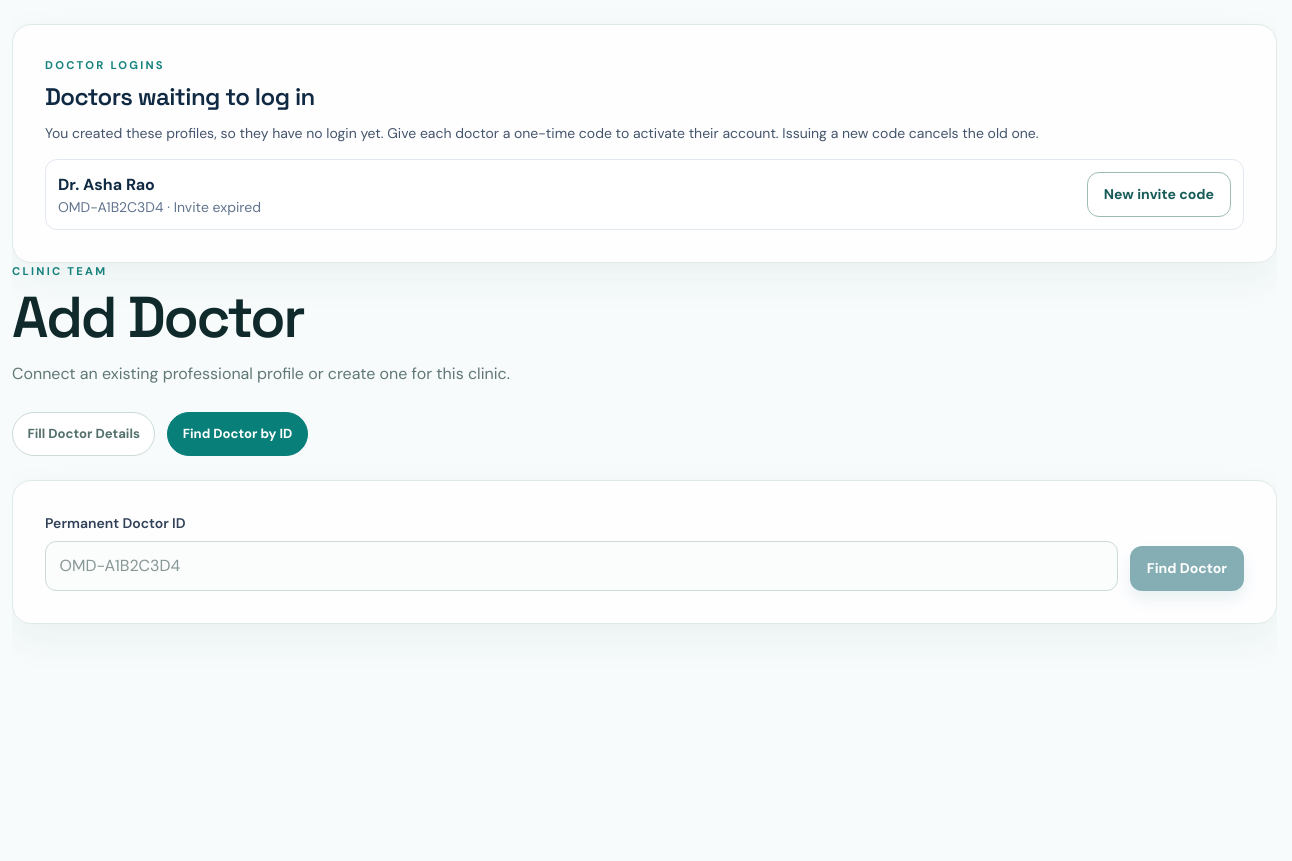
Scenario: receptionist: giving a doctor their code › lists doctors without a login and issues a new code on request
Check: the text "OMD-A1B2C3D4 · Invite expired" is shown, box [58, 197, 261, 217]
Click the button "New invite code".
click(1159, 195)  # box [1087, 172, 1231, 217]
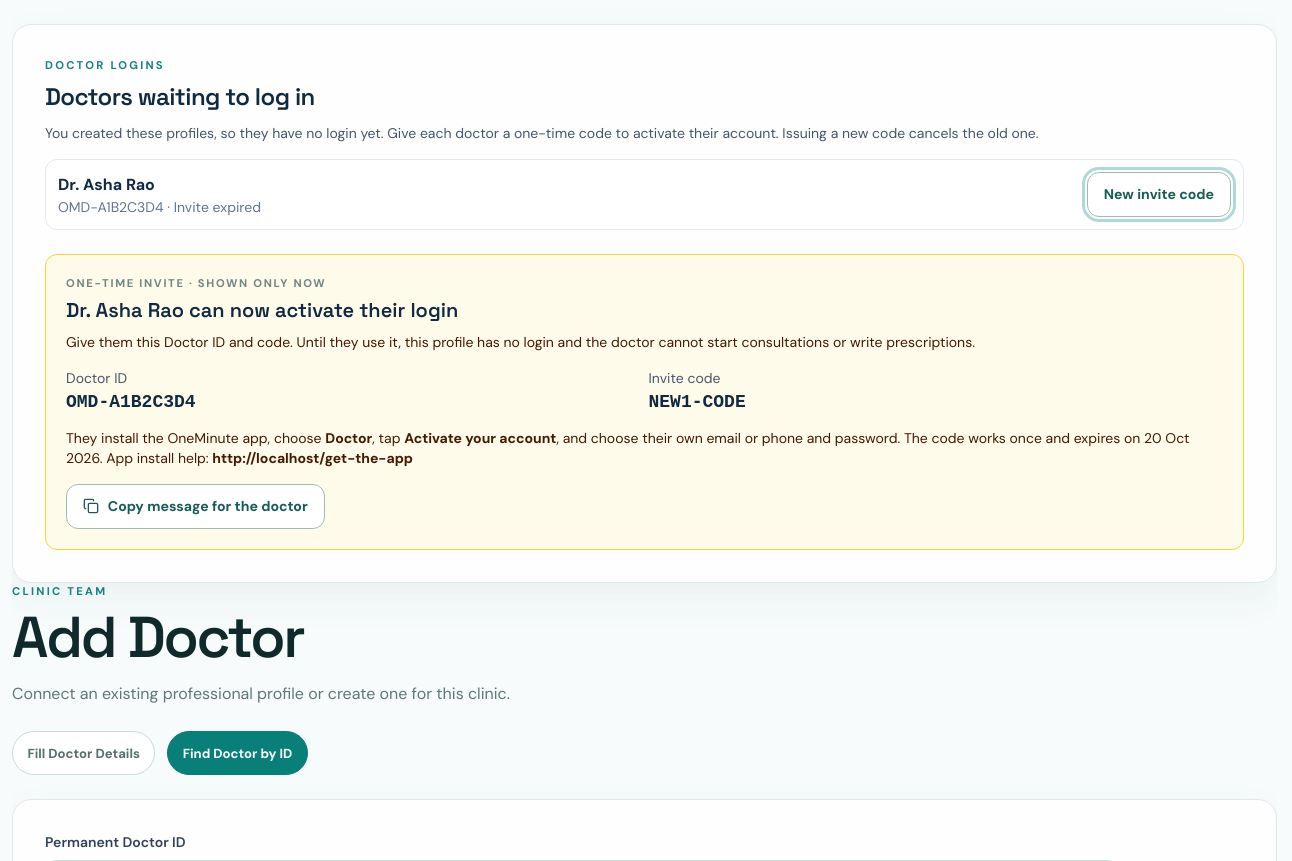
Check: the text "NEW1-CODE" is shown, box [648, 392, 746, 412]
